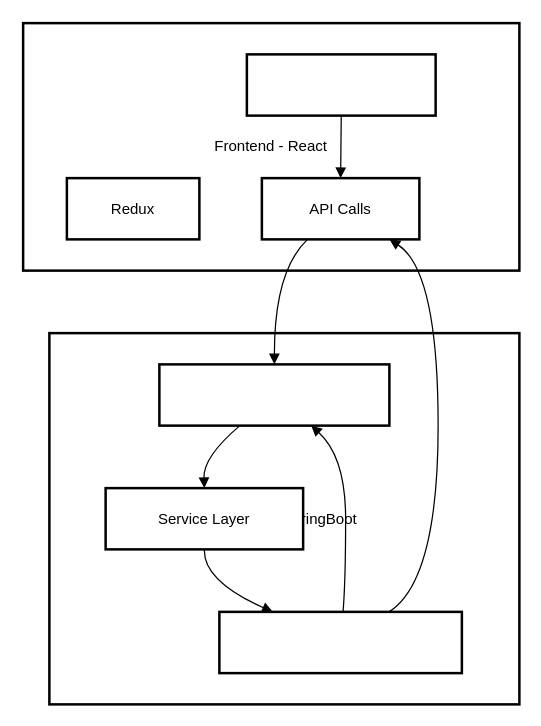
This 541x726 diagram has some shape labels left out. Here are the shapes that lost their labels. From the top down, the centre of each, then its label:
At point (340, 84): "Components".
At point (274, 394): "REST Controllers".
At point (340, 642): "Data Access Layer".
